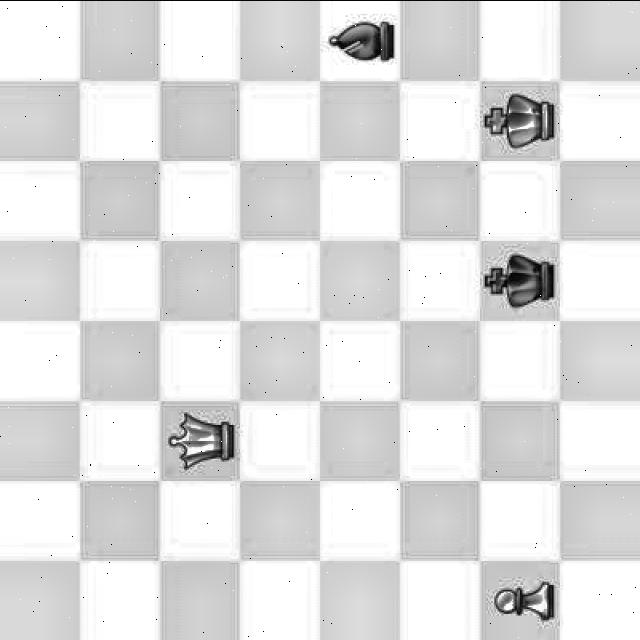black bishop: (324, 8, 396, 74)
black king: (480, 236, 552, 316)
white king: (484, 85, 556, 154)
white pawn: (488, 565, 556, 629)
white queen: (166, 405, 238, 479)
